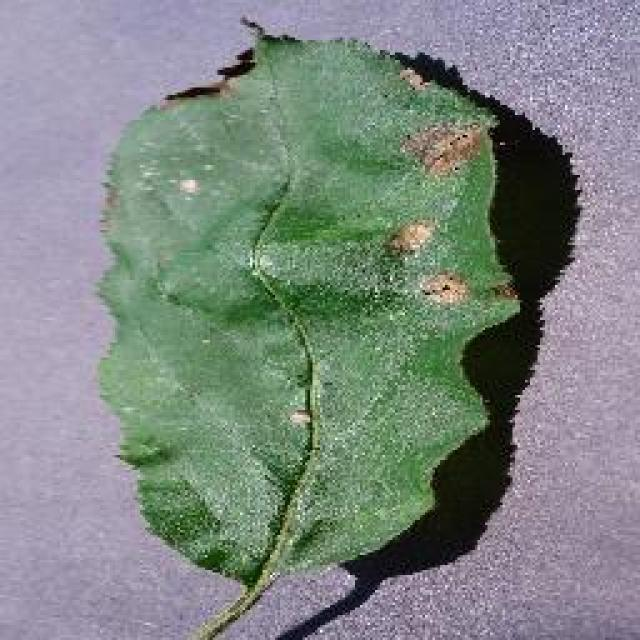Black_rot: (93, 15, 525, 637)
